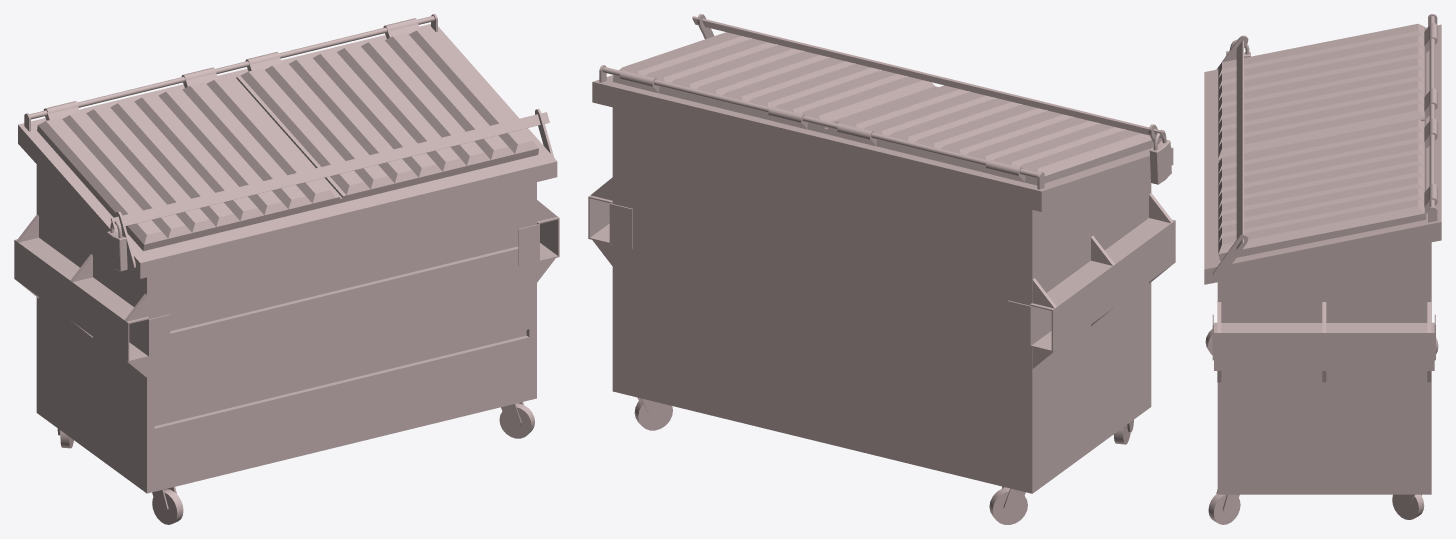
File: SM_Dumpster.fbx
3 renders of one model, left to right at view 1: azimuth 30°, elevation 25°; view 2: azimuth 150°, elevation 25°; view 3: azimuth 270°, elevation 25°, orthographic. The views are drawn at different scales.
Visible parts, largest first — view 1: SM_Dumpster; view 2: SM_Dumpster; view 3: SM_Dumpster.
Part boxes in pixels (left/top/right/bottom): SM_Dumpster: left=14, top=14, right=559, bottom=524; SM_Dumpster: left=588, top=14, right=1175, bottom=524; SM_Dumpster: left=1204, top=14, right=1441, bottom=524.
Bounding box in the file's own units: 255 × 189 × 124.
